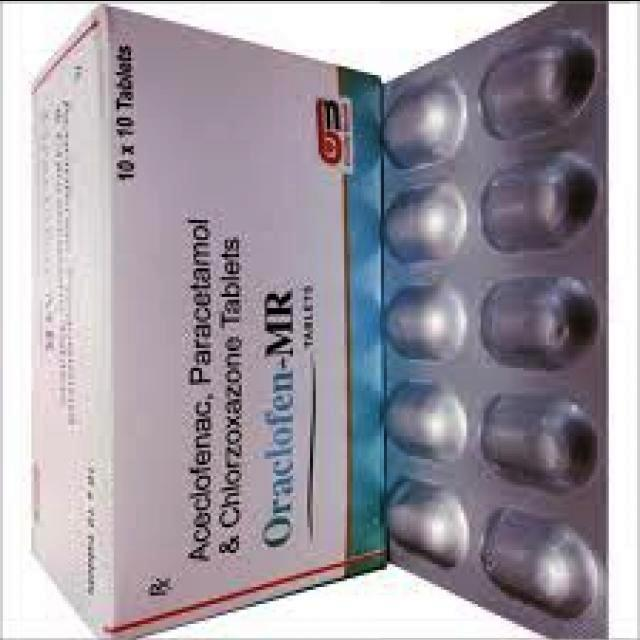authentic: (1, 2, 382, 640), (380, 0, 630, 638)
